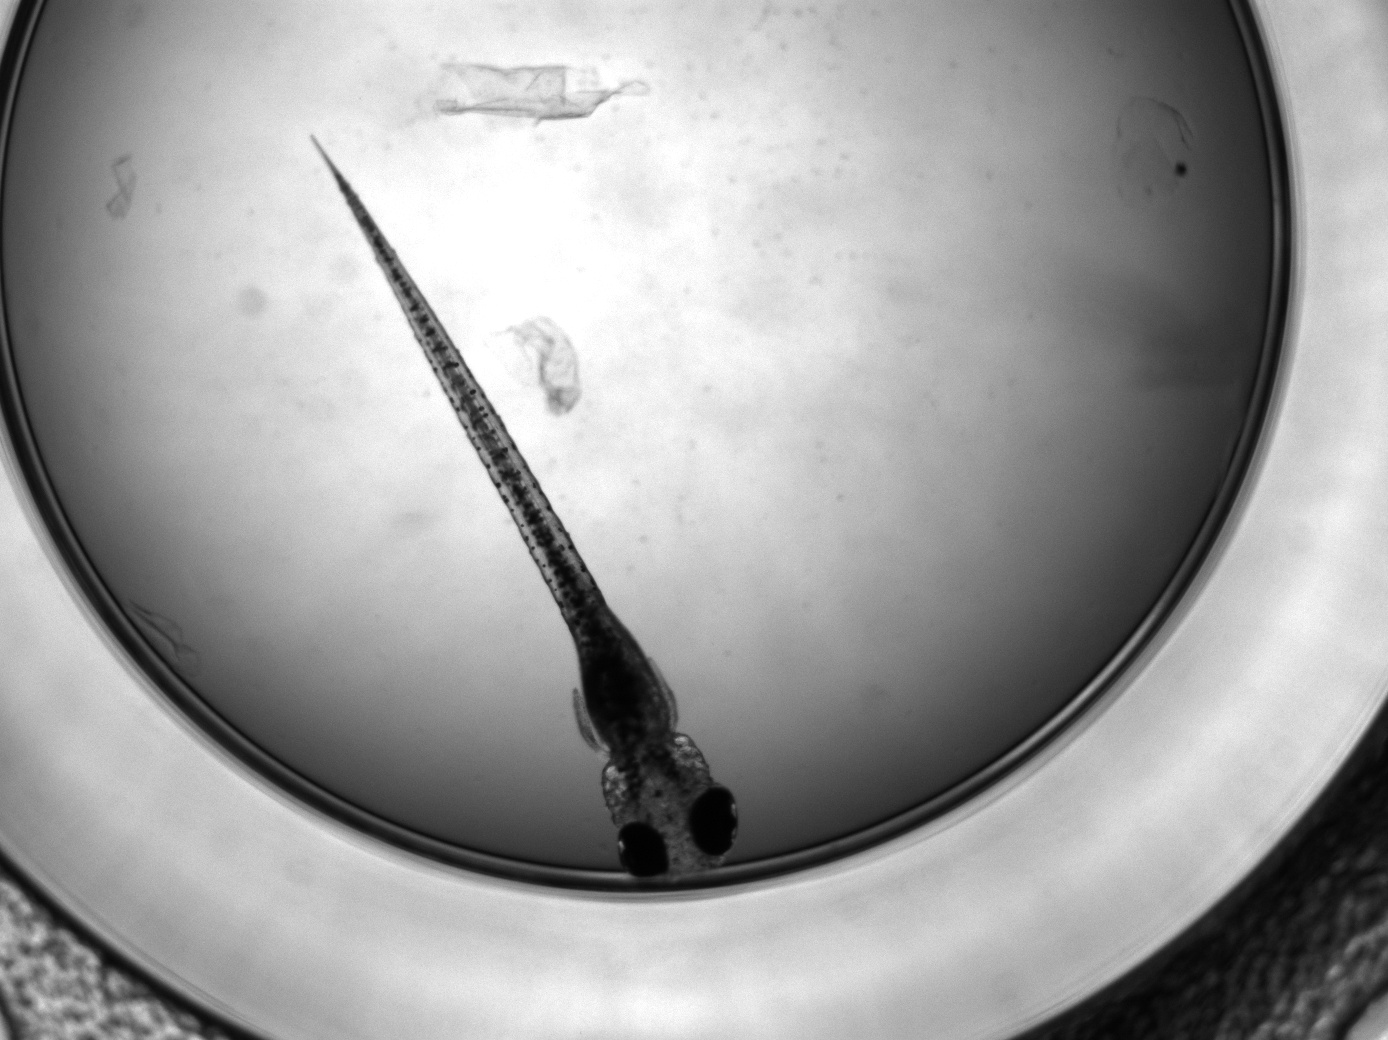debris: (428, 61, 657, 120), (493, 317, 588, 419)
embryo: (310, 134, 739, 882)
eye: (688, 787, 739, 858), (617, 822, 671, 881)
yolksac: (572, 622, 679, 748)
